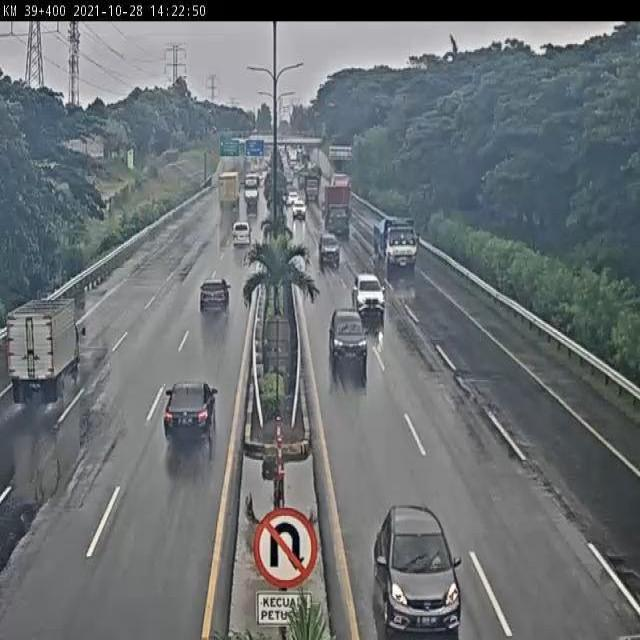car: (164, 382, 220, 442), (327, 305, 370, 375), (199, 273, 228, 311), (230, 220, 252, 245)
truck-l-: (372, 217, 420, 276)
truck-m-: (5, 295, 85, 401)
truck-xl-: (325, 185, 354, 240)
